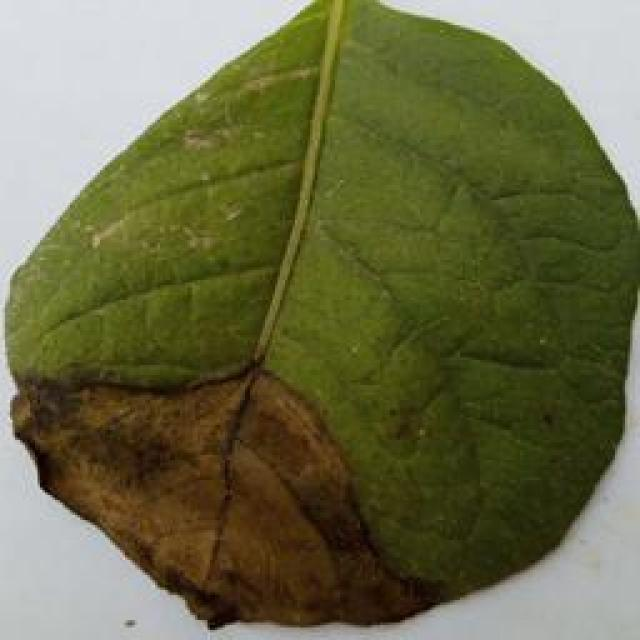Potato_Late_Blight: (6, 10, 636, 636)
